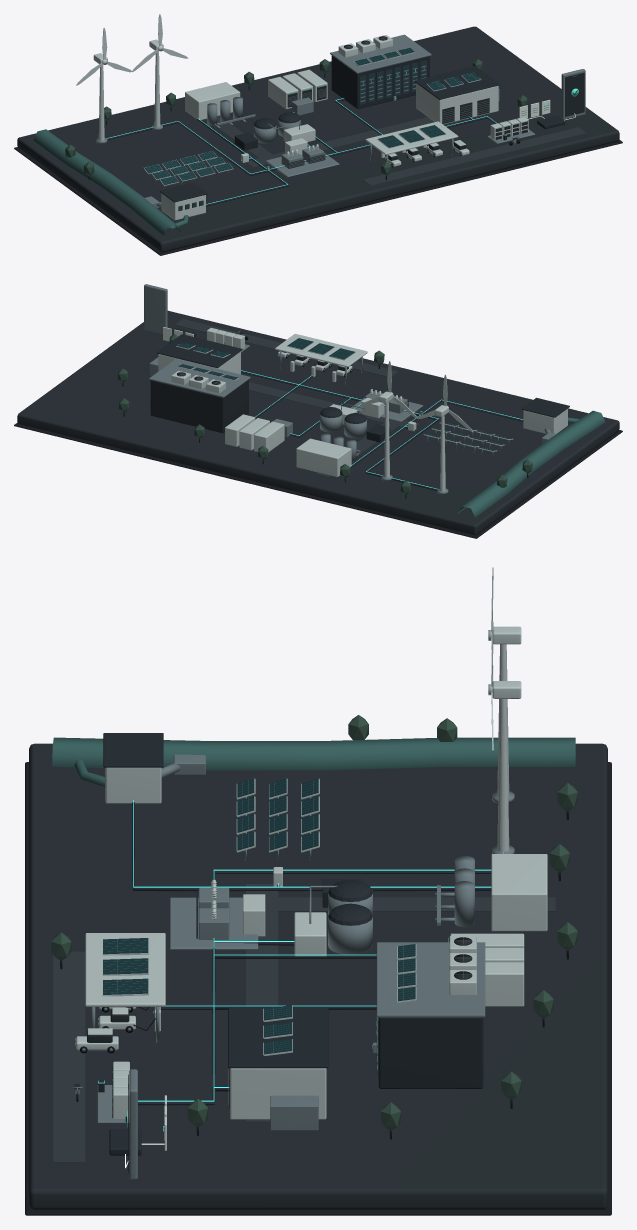
File: gen-z-ecosystem.glb
The picture shows the model from 3 angles, top to bottom: view 1: azimuth 30°, elevation 25°; view 2: azimuth 150°, elevation 25°; view 3: azimuth 270°, elevation 25°; orthographic projection. The views are drawn at different scales.
Visible parts, largest first — view 1: ENV_Landscape, E04_River, ENV_Plinth, P01_DataCenter, ENV_MobilityRoad, P02_Industry, P01_DataRoof, P02_Roof, E05_Plant, ENV_CentralRoad, P03_Canopy, F03_WalletScreen (+12 smaller); view 2: ENV_Landscape, P01_DataCenter, E04_River, ENV_Plinth, E05_Plant, P02_Roof, P01_DataRoof, P03_Canopy, F03_Wallet, ENV_MobilityRoad, ENV_CentralRoad, E04_Powerhouse (+9 smaller); view 3: ENV_Landscape, E04_River, P01_DataCenter, ENV_Plinth, ENV_MobilityRoad, P01_DataRoof, P02_Roof, E05_Plant, P02_Industry, P03_Canopy, ENV_CentralRoad, N01_Foundation (+12 smaller).
Part boxes in pixels (<box>): ENV_Landscape: <box>17,26,619,252</box>; E04_River: <box>33,129,181,235</box>; ENV_Plinth: <box>14,139,622,255</box>; P01_DataCenter: <box>331,55,429,108</box>; ENV_MobilityRoad: <box>363,127,586,185</box>; P02_Industry: <box>416,83,498,124</box>; P01_DataRoof: <box>330,34,431,73</box>; P02_Roof: <box>414,66,499,99</box>; E05_Plant: <box>185,82,240,119</box>; ENV_CentralRoad: <box>246,117,434,167</box>; P03_Canopy: <box>365,121,458,154</box>; F03_WalletScreen: <box>565,72,584,116</box>; ENV_Landscape: <box>17,310,619,535</box>; P01_DataCenter: <box>150,379,248,433</box>; E04_River: <box>458,410,605,517</box>; ENV_Plinth: <box>14,422,622,538</box>; E05_Plant: <box>296,438,351,476</box>; P02_Roof: <box>157,334,242,368</box>; P01_DataRoof: <box>149,358,250,397</box>; P03_Canopy: <box>275,333,367,367</box>; F03_Wallet: <box>144,284,167,334</box>; ENV_MobilityRoad: <box>175,319,398,376</box>; ENV_CentralRoad: <box>249,382,419,427</box>; E04_Powerhouse: <box>523,408,567,433</box>; ENV_Landscape: <box>29,743,607,1209</box>; E04_River: <box>52,737,575,770</box>; P01_DataCenter: <box>378,1017,483,1088</box>; ENV_Plinth: <box>25,762,611,1215</box>; ENV_MobilityRoad: <box>53,951,85,1162</box>; P01_DataRoof: <box>376,942,485,1017</box>; P02_Roof: <box>228,1007,328,1068</box>; E05_Plant: <box>491,854,547,931</box>; P02_Industry: <box>230,1068,326,1119</box>; P03_Canopy: <box>85,933,165,1006</box>; ENV_CentralRoad: <box>246,884,278,1122</box>; N01_Foundation: <box>169,897,258,949</box>.
Size of the model in its own units: 133 by 35.15 by 73.
